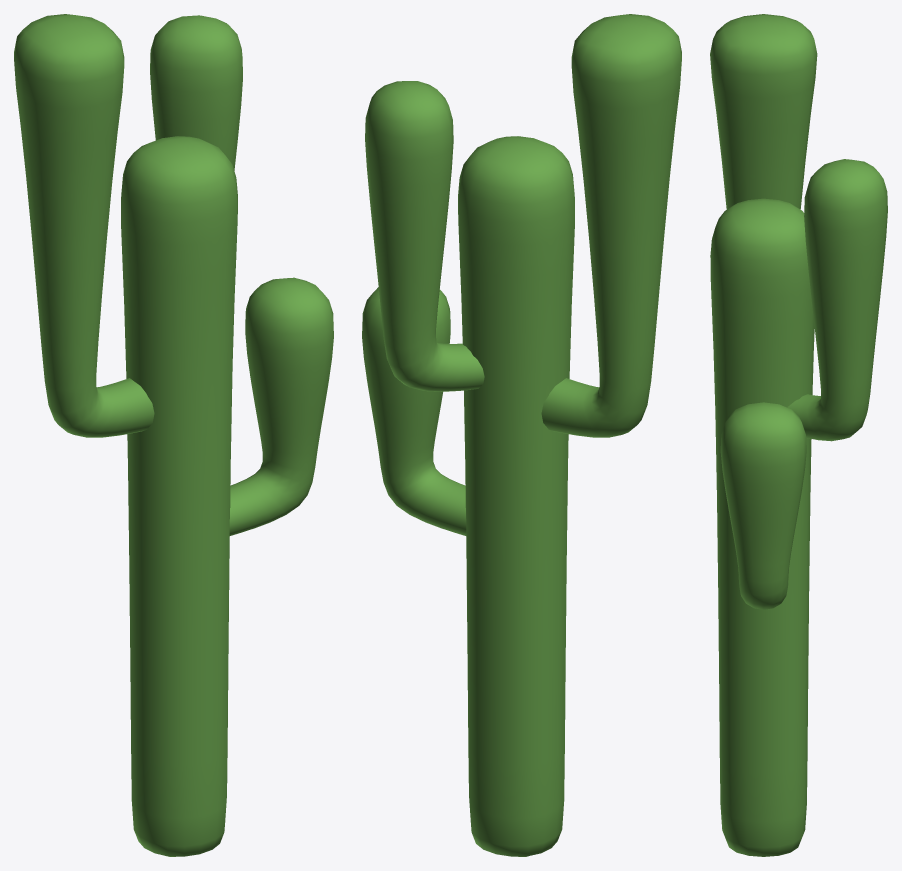
File: cactus2.fbx
The picture shows the model from 3 angles, left to right: view 1: azimuth 30°, elevation 25°; view 2: azimuth 150°, elevation 25°; view 3: azimuth 270°, elevation 25°; orthographic projection. The views are drawn at different scales.
Visible parts, largest first — view 1: cactus2; view 2: cactus2; view 3: cactus2.
Part boxes in pixels (x1,y1,x2,y2): cactus2: (14, 14, 333, 856); cactus2: (362, 14, 681, 856); cactus2: (710, 14, 887, 856).
Size of the model in its own units: 257 by 683 by 142.
